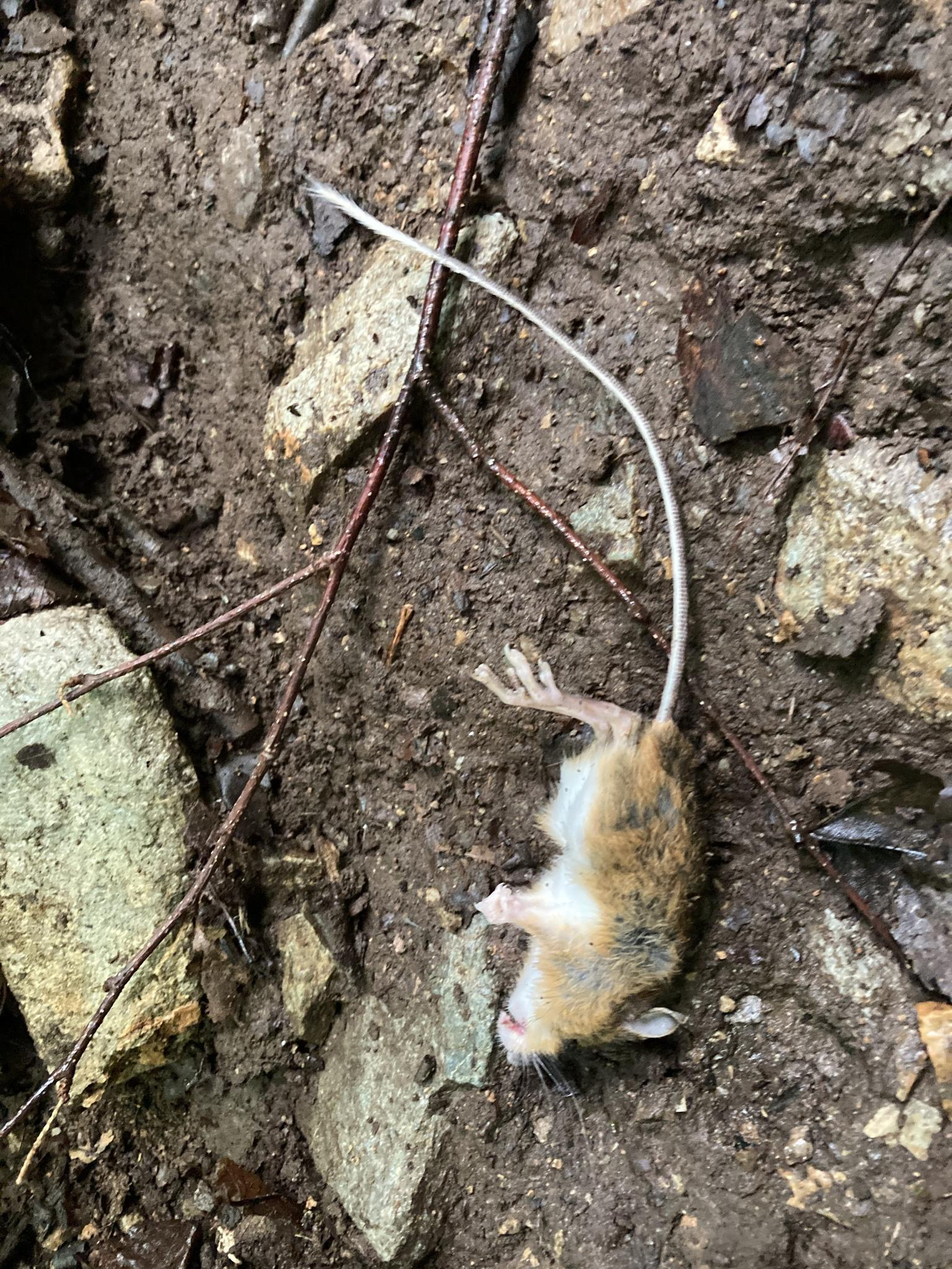rat: (313, 182, 695, 1067)
